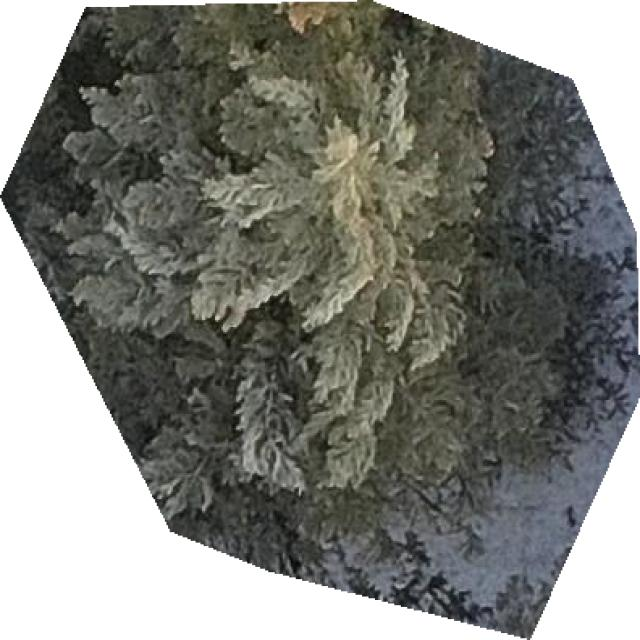spruce: (0, 0, 638, 638)
